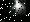person: (10, 1, 27, 16)
